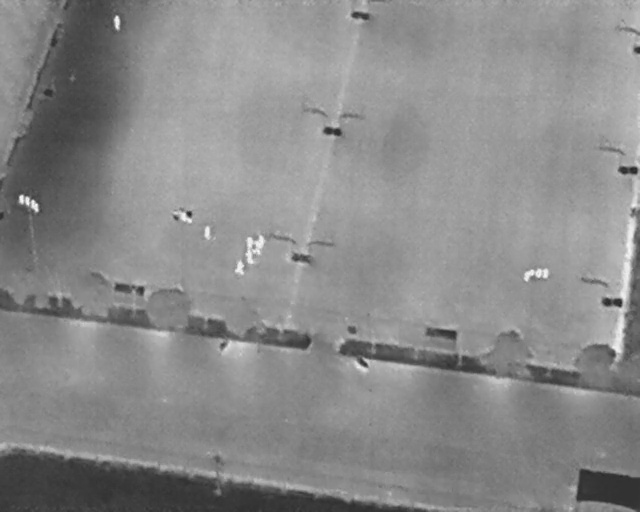Person: (113, 13, 121, 32), (236, 259, 245, 275), (246, 248, 254, 265), (257, 233, 265, 249), (203, 224, 211, 239), (246, 236, 254, 251), (254, 240, 262, 255)
